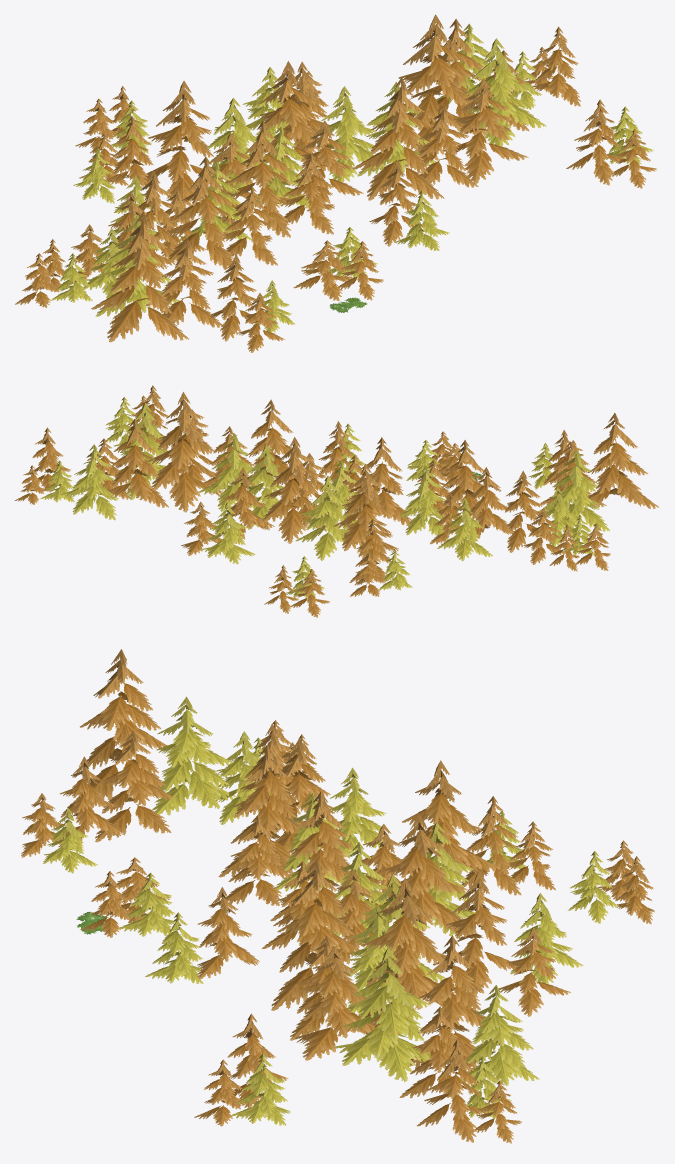
Rendered from area_06_8.FBX.
The picture shows the model from 3 angles, top to bottom: view 1: azimuth 30°, elevation 25°; view 2: azimuth 150°, elevation 25°; view 3: azimuth 270°, elevation 25°; orthographic projection. The views are drawn at different scales.
Parts seen in each view (by area): view 1: area_06_8; view 2: area_06_8; view 3: area_06_8.
Part boxes in pixels (box(x1,y1,x2,y2)): area_06_8: box(15, 14, 656, 352); area_06_8: box(14, 385, 659, 617); area_06_8: box(21, 649, 654, 1143).
Bounding box in the file's own units: 78.13 × 16.79 × 56.11.
